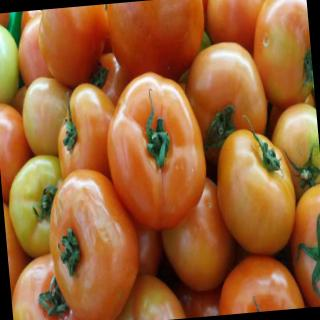Tomat: (101, 68, 212, 235), (43, 164, 147, 320), (211, 110, 301, 259), (181, 38, 273, 169), (106, 1, 210, 88), (248, 1, 316, 110), (52, 81, 122, 184), (6, 153, 70, 260), (37, 5, 114, 90), (214, 251, 306, 316), (9, 249, 92, 320), (19, 74, 78, 159), (204, 1, 273, 58), (1, 19, 23, 105)
